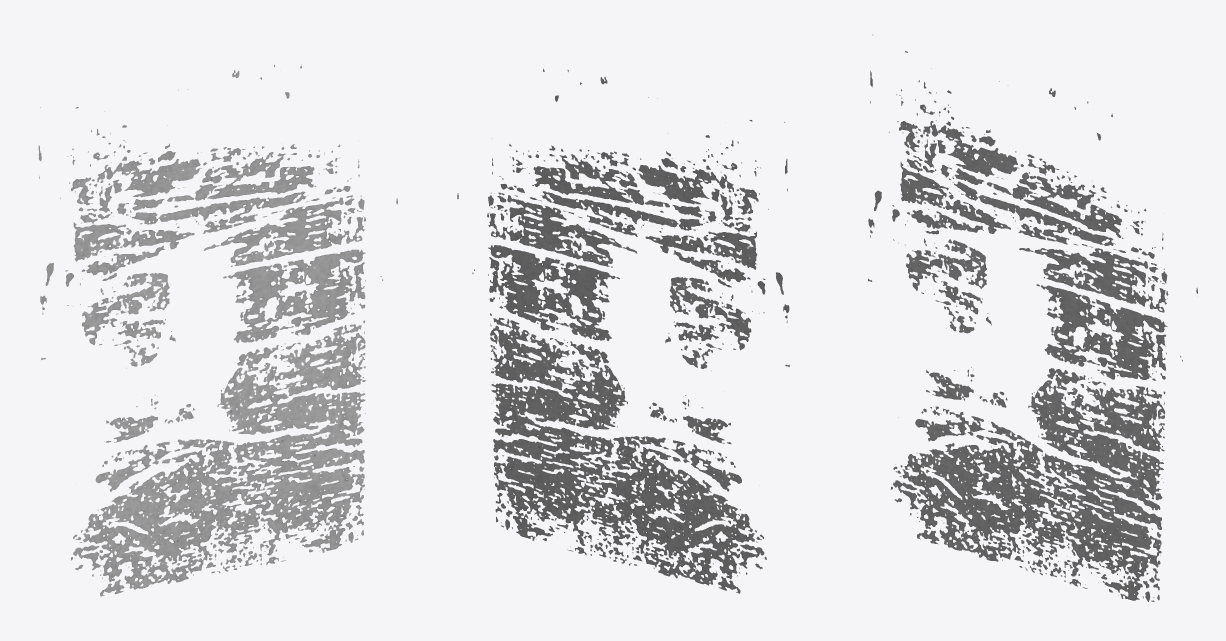
The model's file is poster_adhesive_2.fbx.
The picture shows the model from 3 angles, left to right: view 1: azimuth 30°, elevation 25°; view 2: azimuth 150°, elevation 25°; view 3: azimuth 330°, elevation 25°; orthographic projection. The views are drawn at different scales.
Visible parts, largest first — view 1: poster_adhesive_2; view 2: poster_adhesive_2; view 3: poster_adhesive_2.
Part boxes in pixels (x1,y1,x2,y2): poster_adhesive_2: [38, 65, 397, 596]; poster_adhesive_2: [457, 68, 789, 593]; poster_adhesive_2: [868, 34, 1197, 601].
Bounding box in the file's own units: 53.34 × 69.82 × 4.29.
